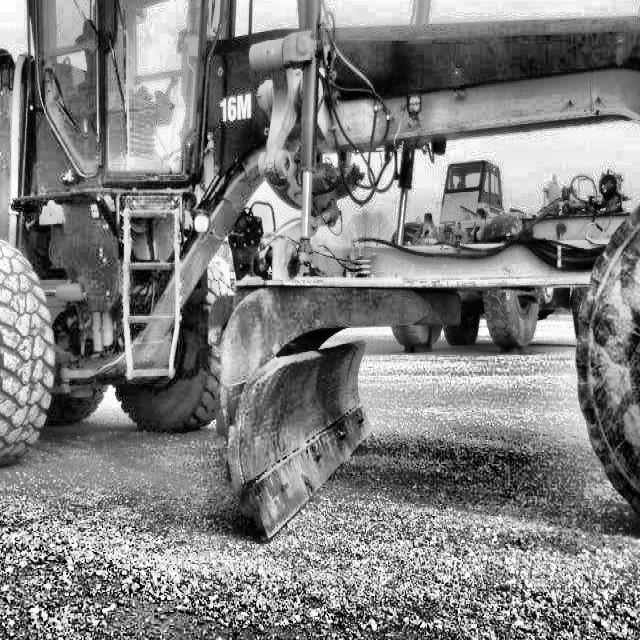buldozerpayloadergrader: (0, 0, 640, 607)
